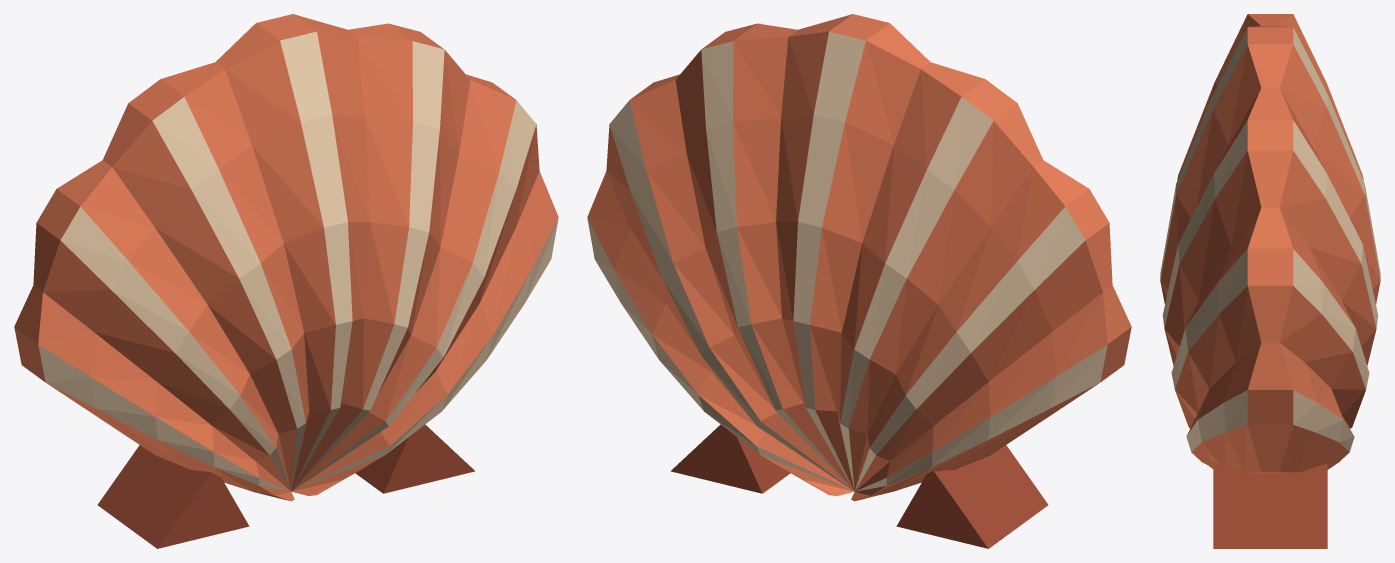
File: KANJI_28_KAI.fbx
The picture shows the model from 3 angles, left to right: view 1: azimuth 30°, elevation 25°; view 2: azimuth 150°, elevation 25°; view 3: azimuth 270°, elevation 25°; orthographic projection. The views are drawn at different scales.
Visible parts, largest first — view 1: SM_KANJI_28_Kai; view 2: SM_KANJI_28_Kai; view 3: SM_KANJI_28_Kai.
Boxes of the visible parts, bbox=[...] form: SM_KANJI_28_Kai: bbox=[14, 14, 558, 548]; SM_KANJI_28_Kai: bbox=[587, 14, 1131, 548]; SM_KANJI_28_Kai: bbox=[1160, 14, 1380, 548].
Bounding box in the file's own units: 0.26 × 0.22 × 0.1.
